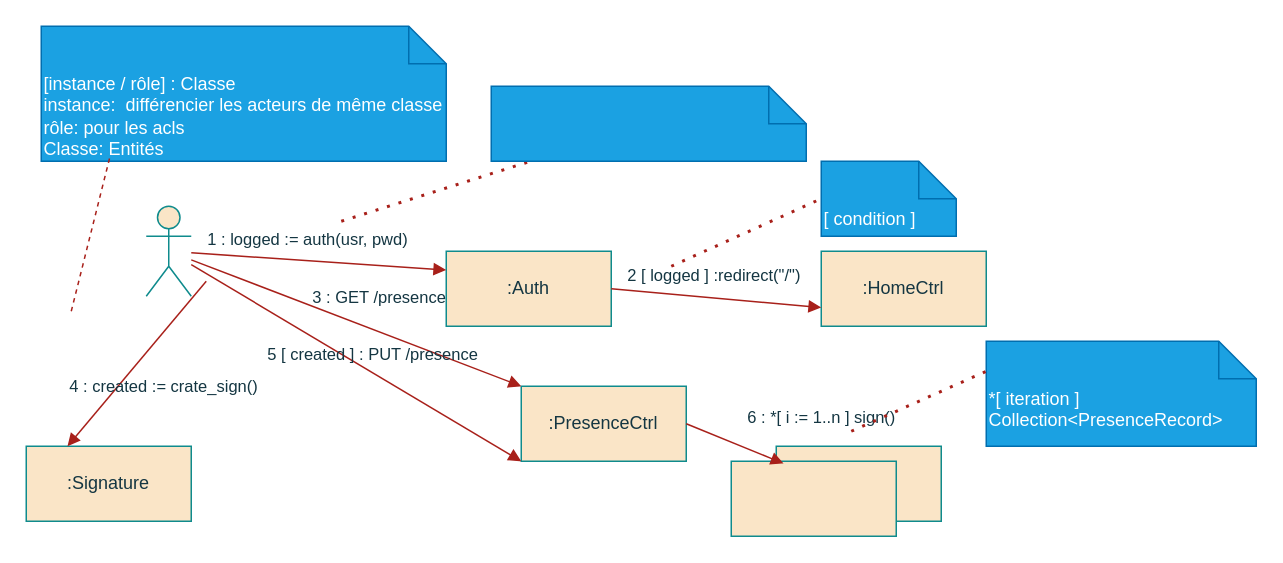
The diagram is 1283 pixels wide and 563 high, and some of its shapes have lost their labels. The shapes that lost their labels are listed below. From the top down, each one's box as (x1, y1, x2, y2) in pixels, then its label:
(490, 85, 806, 161): ordre de msg: return value := mes()
(145, 205, 191, 296): martin/client:Participant
(730, 460, 896, 536): :PresenceRecord
